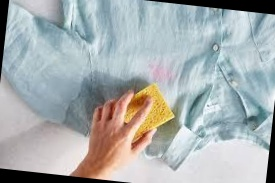lipstick: (142, 65, 175, 86)
